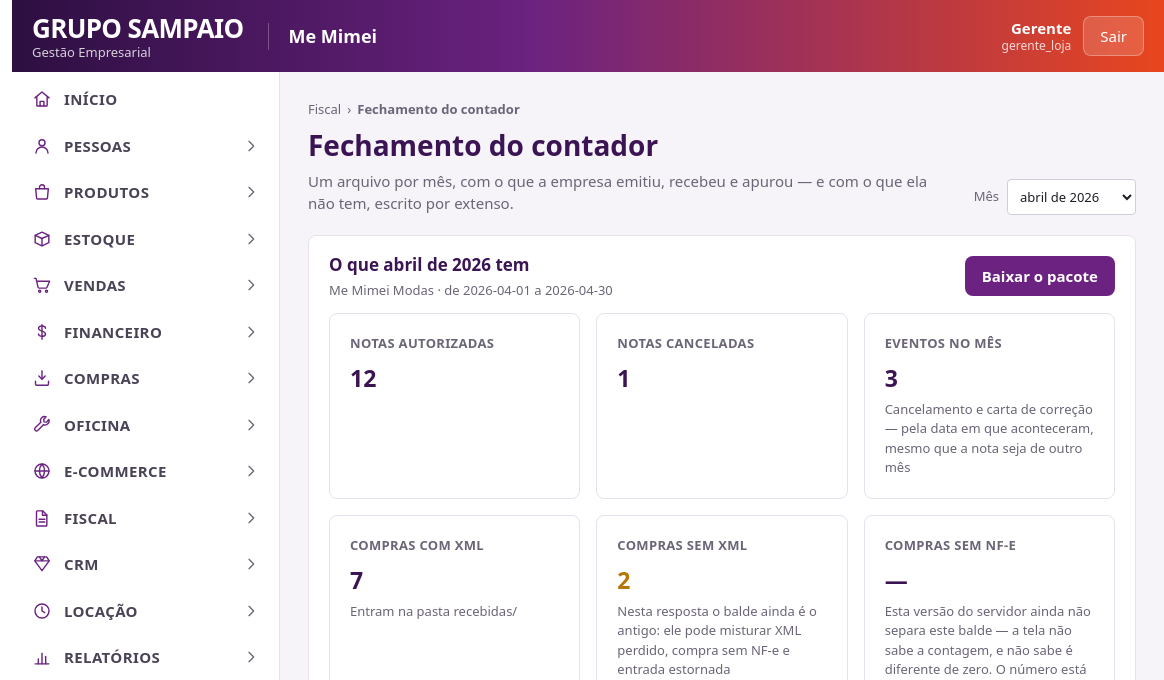
o seletor abre onde tem matéria-prima › escolher um mês à mão MANDA — o pulo não acontece uma segunda vez
This screenshot has width=1164, height=680.
Expected: the heading "O que abril de 2026 tem" is shown, [329, 252, 530, 276]
Select "março de 2026" in the dropdown named "Mês do fechamento": (1072, 196) [1007, 178, 1136, 214]
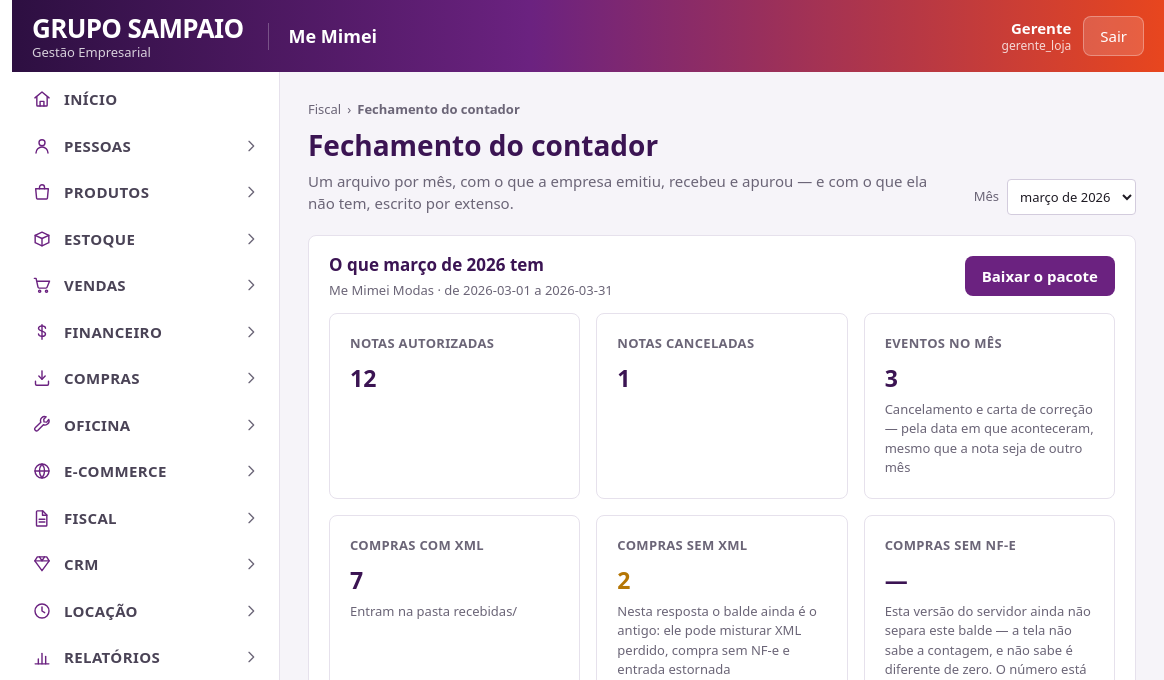
Expected: the heading "O que março de 2026 tem" is shown, [329, 252, 544, 276]
